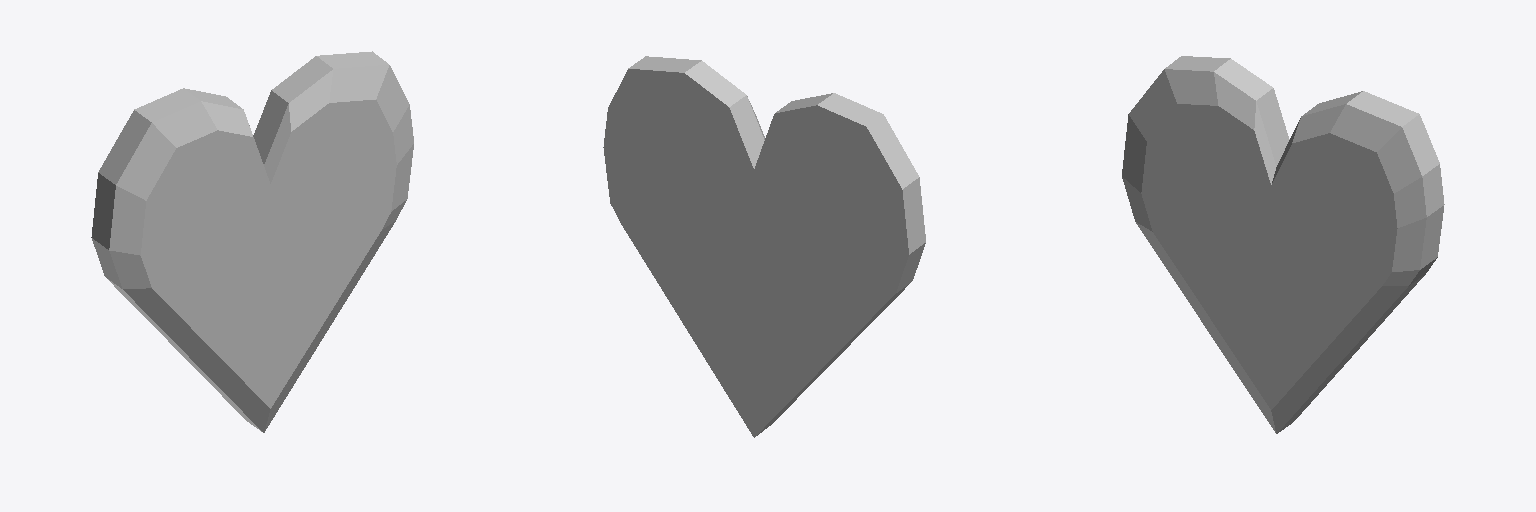
The model's file is heart - 副本.obj.
3 views of the same model, side by side, from view 1: azimuth 30°, elevation 25°; view 2: azimuth 150°, elevation 25°; view 3: azimuth 330°, elevation 25° (orthographic).
Parts seen in each view (by area): view 1: heart; view 2: heart; view 3: heart.
Boxes of the visible parts, <box> form: heart: <box>91,51,413,432</box>; heart: <box>603,56,925,437</box>; heart: <box>1122,56,1444,433</box>.
Bounding box in the file's own units: 7.13 × 7.76 × 0.9437.